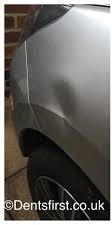dent: (29, 71, 87, 141)
